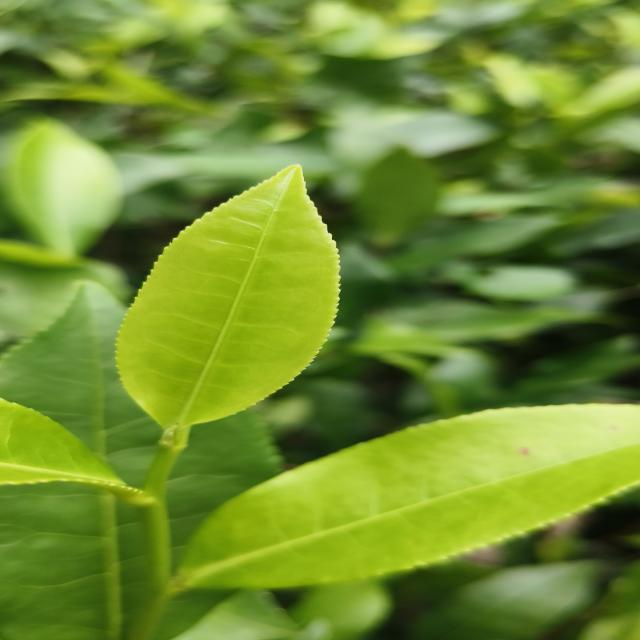Leaf: (179, 404, 640, 588), (118, 166, 339, 430), (0, 282, 162, 487), (0, 482, 145, 640), (166, 410, 281, 563), (3, 120, 122, 257), (416, 560, 599, 640), (0, 399, 143, 500), (356, 148, 439, 247), (158, 593, 217, 640)
